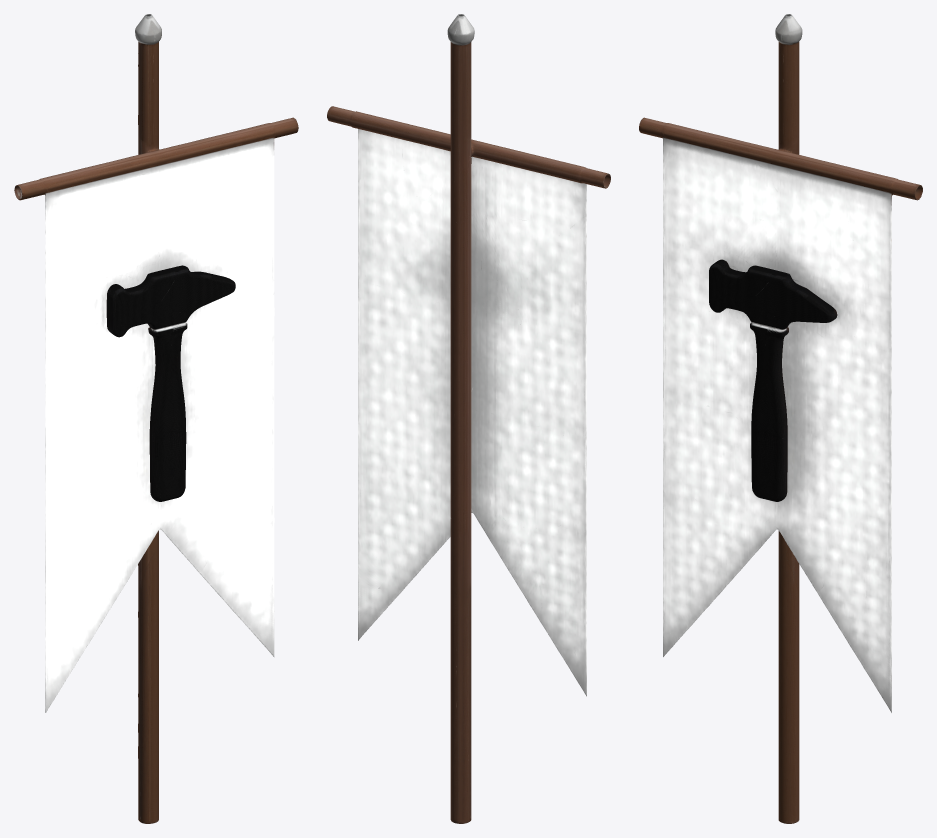
The model's file is build_flag.glb.
3 views of the same model, side by side, from view 1: azimuth 30°, elevation 25°; view 2: azimuth 150°, elevation 25°; view 3: azimuth 330°, elevation 25° (orthographic).
Size of the model in its own units: 0.6831 by 1.9 by 0.1273.
Materials: 1 (1 with a texture image).
